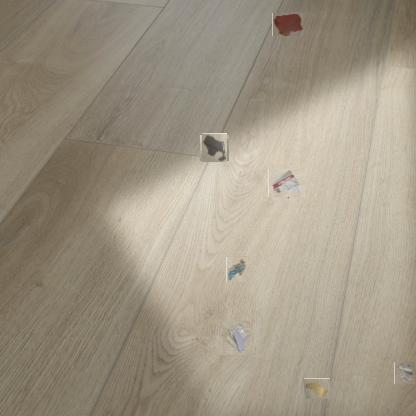dirty: (270, 167, 303, 200), (220, 323, 252, 354), (304, 378, 330, 399), (226, 256, 247, 282), (394, 362, 415, 384)
liquid: (201, 134, 228, 162), (272, 12, 303, 36)
